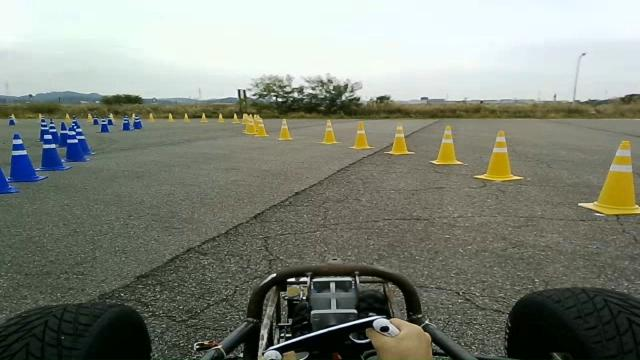blue cone: (6, 133, 48, 183), (68, 119, 96, 165), (46, 134, 72, 172), (0, 167, 19, 194)
yellow cone: (577, 140, 639, 216), (473, 130, 524, 182), (429, 125, 464, 165), (384, 122, 415, 155), (348, 120, 374, 149), (317, 118, 341, 144), (276, 118, 294, 140), (254, 117, 268, 137)
